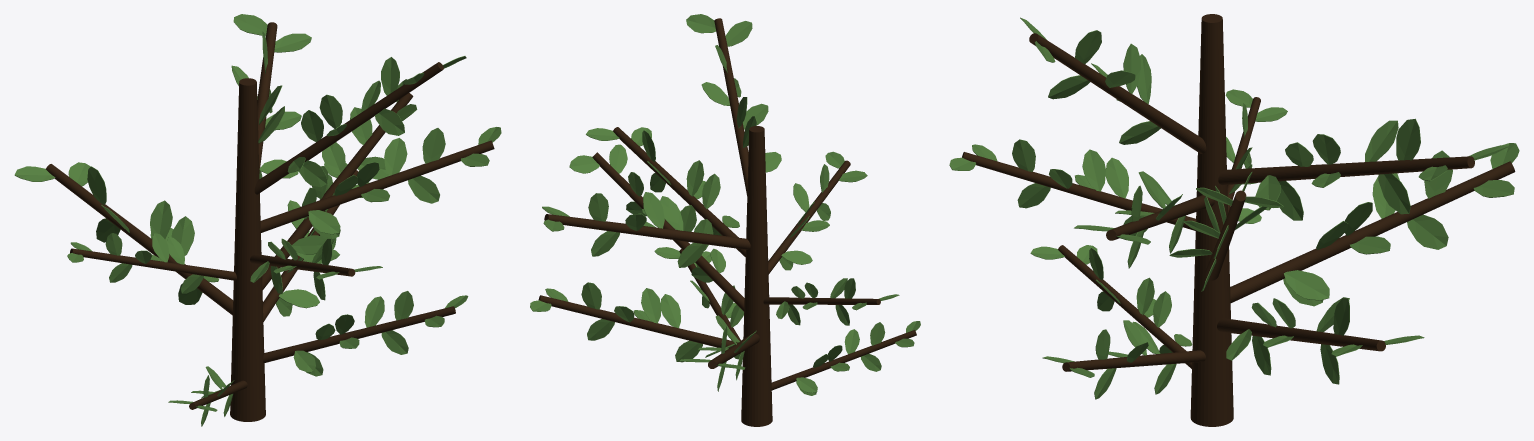
The model's file is Bush.fbx.
The picture shows the model from 3 angles, left to right: view 1: azimuth 30°, elevation 25°; view 2: azimuth 150°, elevation 25°; view 3: azimuth 270°, elevation 25°; orthographic projection. The views are drawn at different scales.
Visible parts, largest first — view 1: Bush; view 2: Bush; view 3: Bush.
Part boxes in pixels (x1=…): Bush: x1=14, y1=14, x2=501, y2=426; Bush: x1=530, y1=14, x2=920, y2=426; Bush: x1=949, y1=14, x2=1519, y2=426.
Size of the model in its own units: 381 by 349 by 398.
